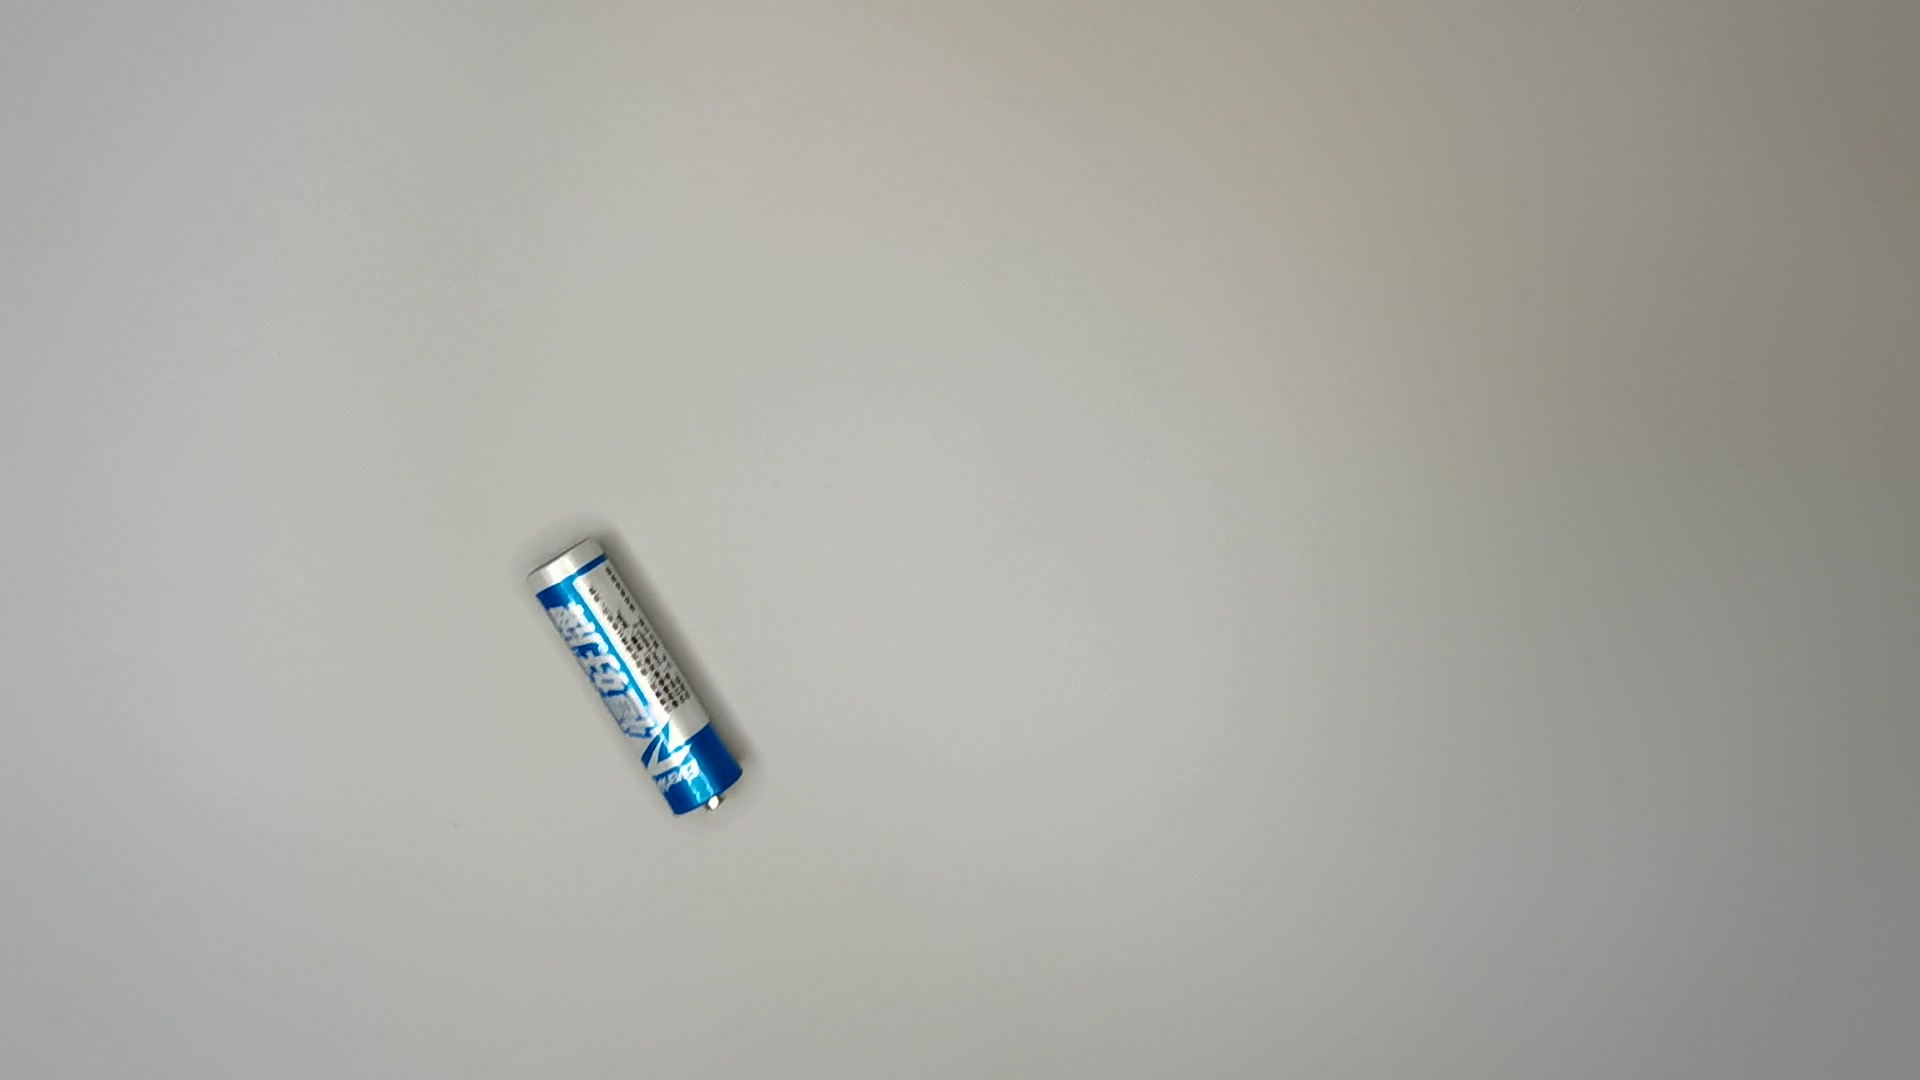battery: (521, 527, 760, 816)
